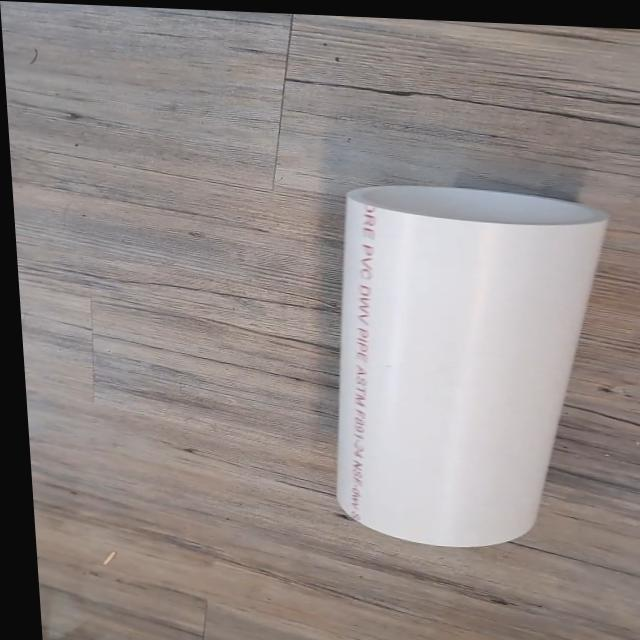CORAL: (301, 165, 640, 559)
